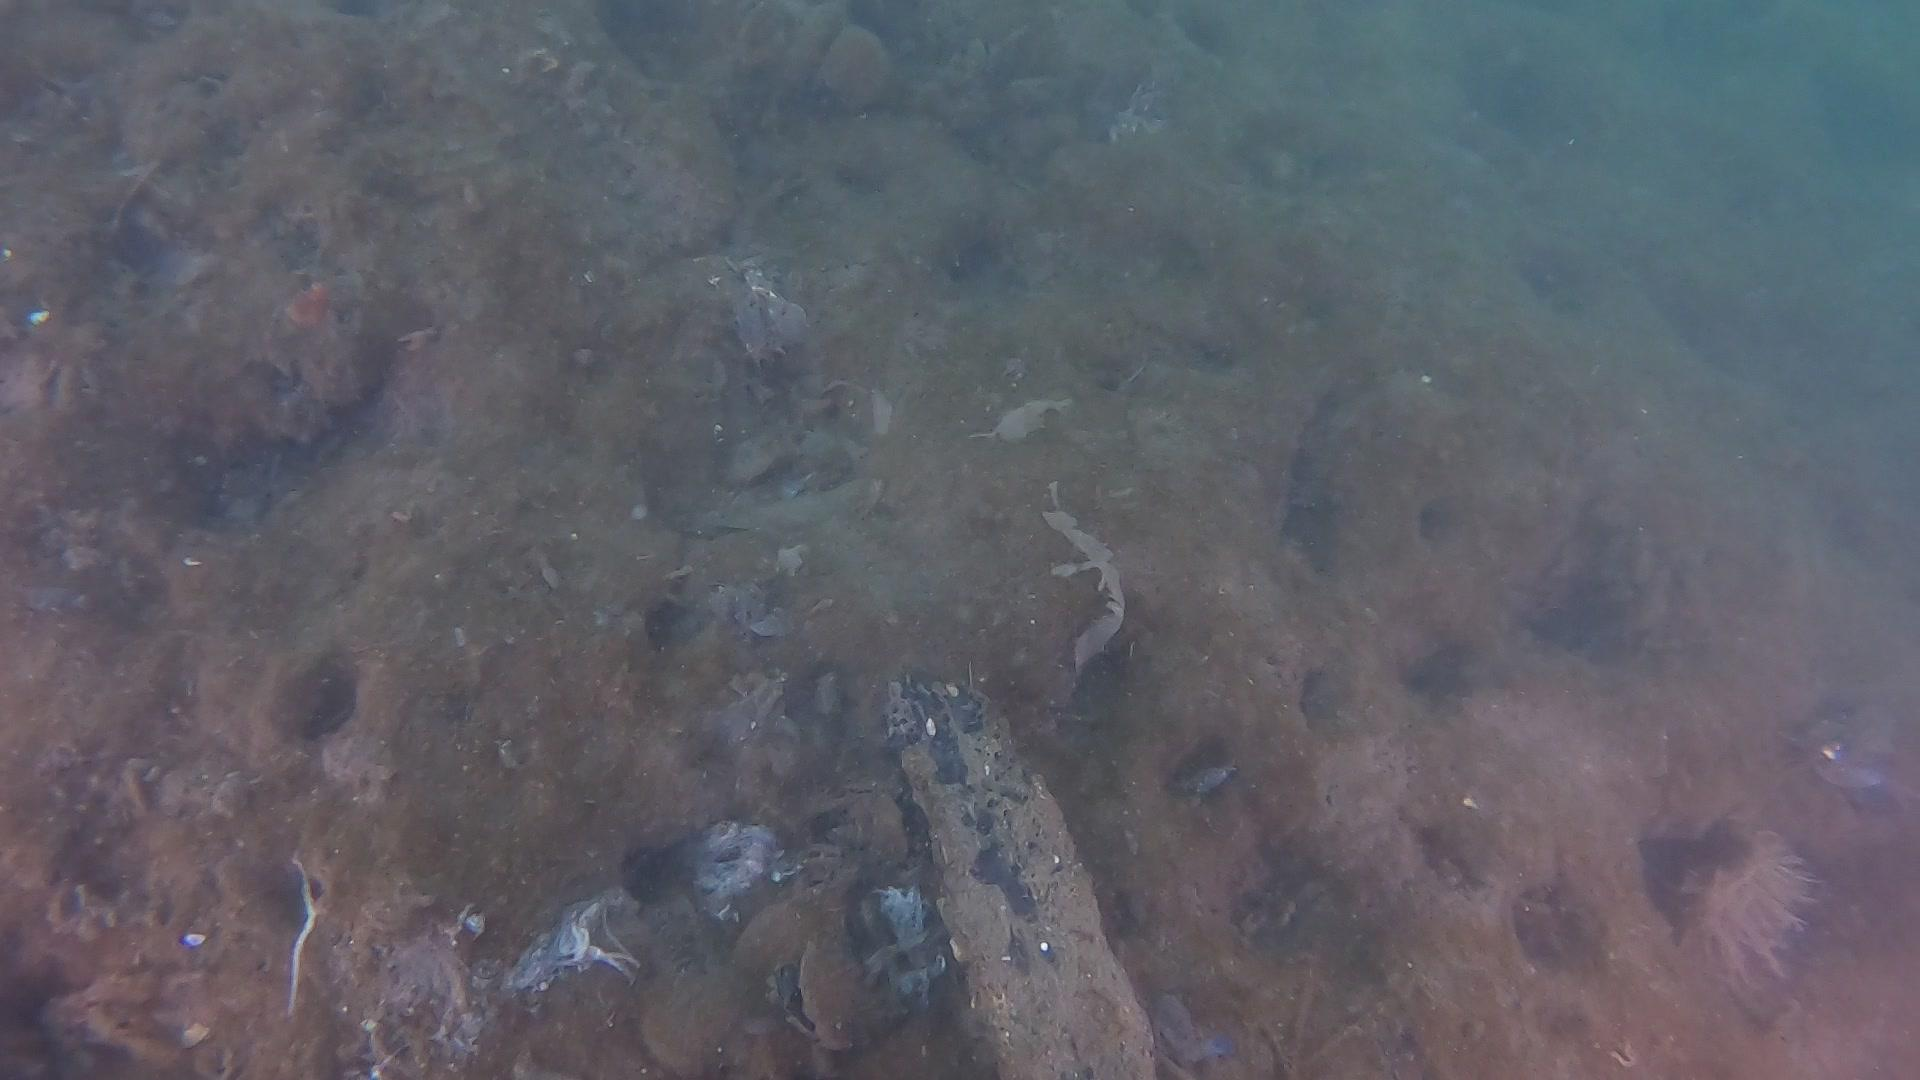wood: (885, 679, 1158, 1080)
